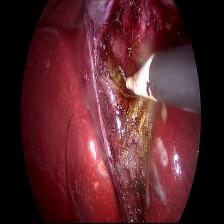Hook: (114, 50, 158, 104)
